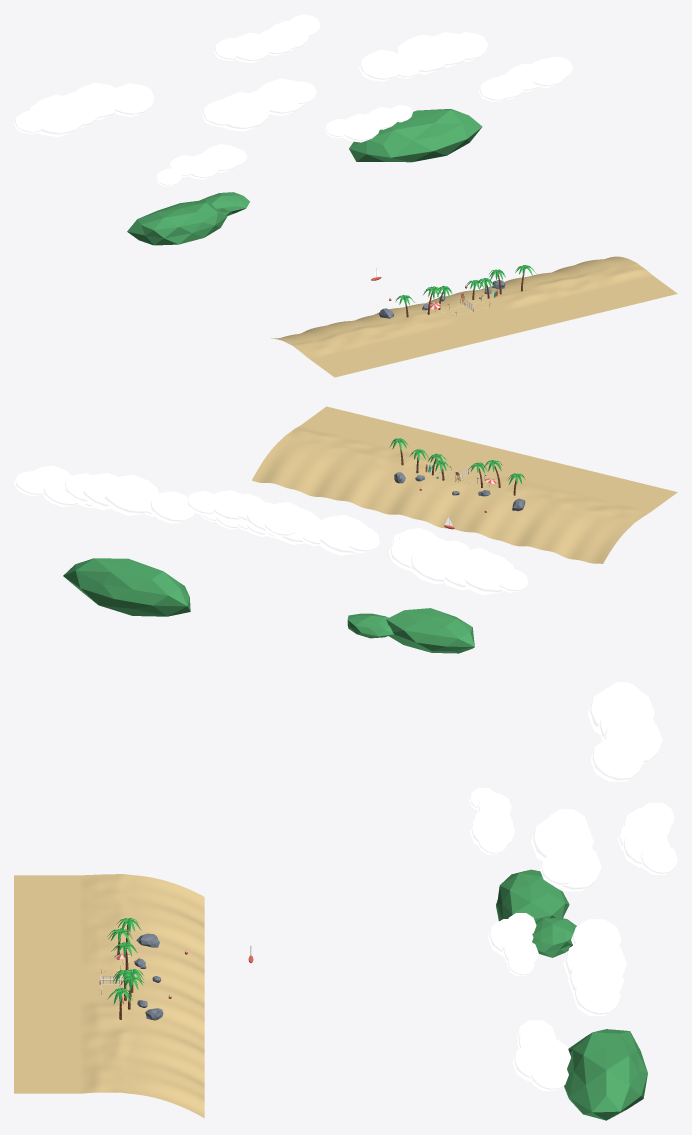
The model's file is beach.glb.
3 views of the same model, one above another, from view 1: azimuth 30°, elevation 25°; view 2: azimuth 150°, elevation 25°; view 3: azimuth 270°, elevation 25° (orthographic). The views are drawn at different scales.
Visible parts, largest first — view 1: Sand, Island2, Cloud4, Cloud3, Cloud1, Island0, Cloud6, Cloud5, Cloud0, Cloud2, Island1; view 2: Sand, Island2, Cloud4, Cloud3, Island0, Cloud1, Cloud6, Cloud5, Island1, Cloud0, Cloud2; view 3: Sand, Island2, Cloud4, Cloud3, Cloud1, Cloud6, Cloud5, Island0, Cloud0, Cloud2, Island1.
Boxes of the visible parts, bbox=[...] form: Sand: bbox=[271, 256, 677, 377]; Island2: bbox=[349, 109, 482, 162]; Cloud4: bbox=[14, 82, 154, 137]; Cloud3: bbox=[359, 32, 487, 81]; Cloud1: bbox=[202, 78, 316, 131]; Island0: bbox=[127, 199, 227, 245]; Cloud6: bbox=[214, 14, 320, 62]; Cloud5: bbox=[478, 56, 572, 102]; Cloud0: bbox=[155, 144, 246, 186]; Cloud2: bbox=[325, 105, 412, 142]; Island1: bbox=[200, 192, 249, 215]; Sand: bbox=[252, 406, 677, 563]; Island2: bbox=[63, 558, 190, 616]; Cloud4: bbox=[389, 537, 528, 594]; Cloud3: bbox=[63, 473, 194, 523]; Island0: bbox=[386, 608, 474, 653]; Cloud1: bbox=[273, 502, 379, 555]; Cloud6: bbox=[186, 490, 297, 536]; Cloud5: bbox=[14, 465, 111, 509]; Island1: bbox=[347, 613, 393, 638]; Cloud0: bbox=[392, 528, 488, 553]; Cloud2: bbox=[201, 514, 276, 538]; Sand: bbox=[14, 874, 204, 1118]; Island2: bbox=[564, 1029, 647, 1120]; Cloud4: bbox=[587, 682, 662, 781]; Cloud3: bbox=[563, 919, 626, 1015]; Cloud1: bbox=[531, 809, 601, 891]; Cloud6: bbox=[617, 802, 677, 874]; Cloud5: bbox=[512, 1020, 570, 1090]; Island0: bbox=[496, 869, 569, 921]; Cloud0: bbox=[469, 788, 515, 854]; Cloud2: bbox=[488, 913, 538, 975]; Island1: bbox=[532, 917, 576, 957].
Bounding box in the file's own units: 147 × 40.11 × 123.
